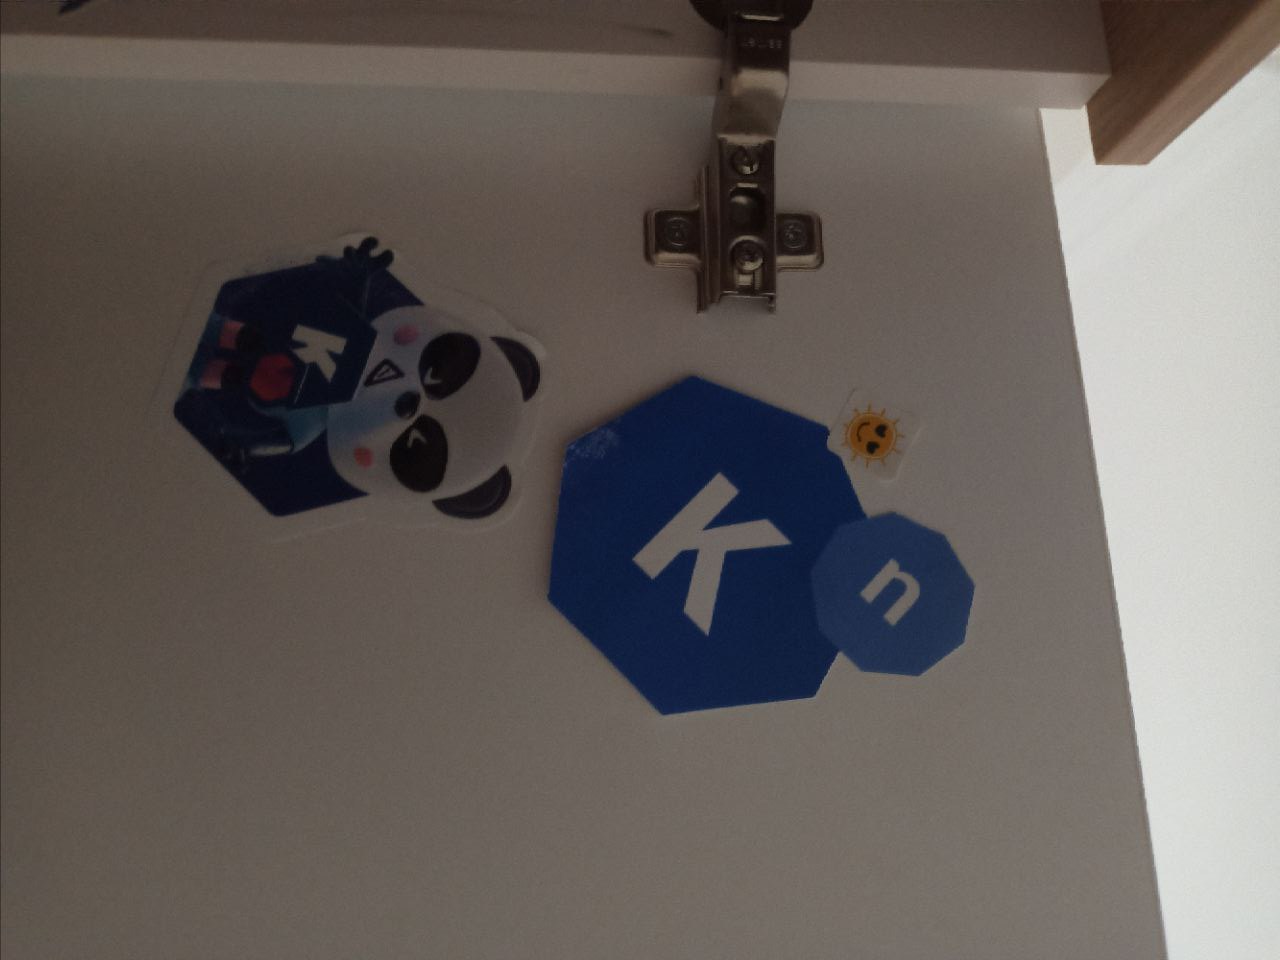knative: (546, 373, 975, 720)
